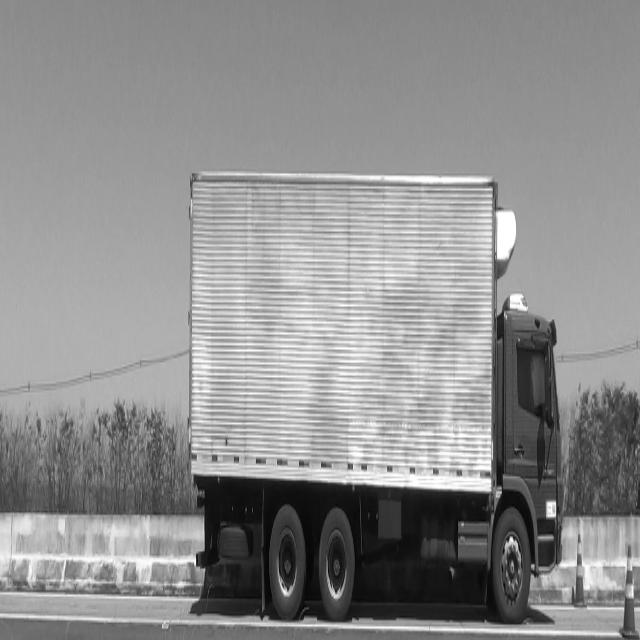Truck: (188, 173, 564, 620)
